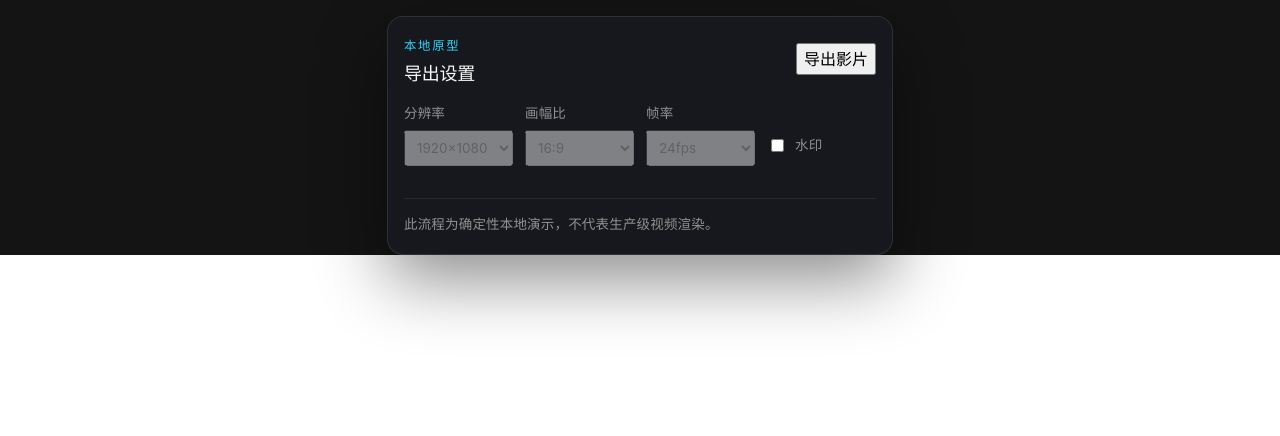
Scenario: export panel › routes the default export through the registered mock provider
This screenshot has width=1280, height=436.
Click the button "导出影片": [836, 59] box [796, 43, 876, 75]
Wait 1800 ms
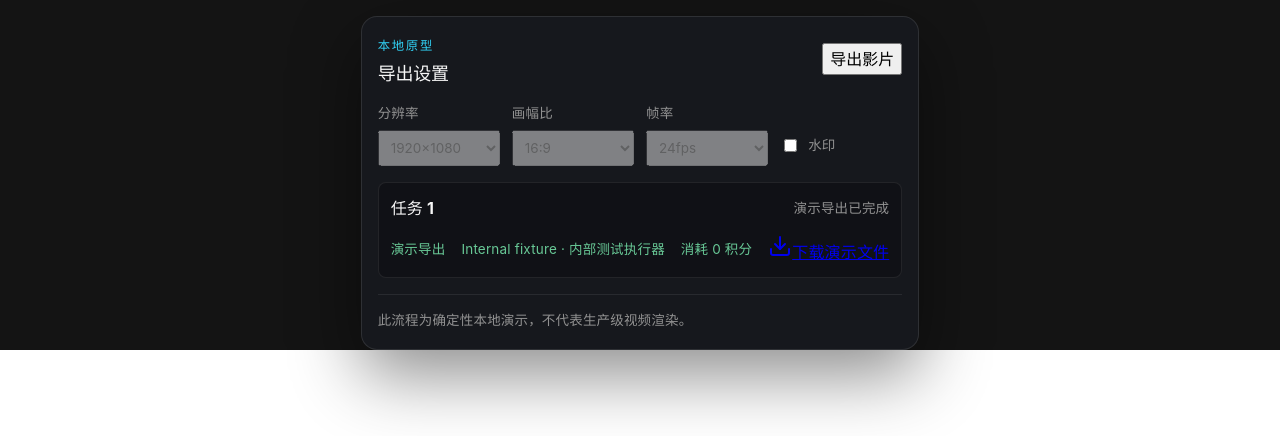
Expected: the list item with aria-label "导出任务 1" shows "Internal fixture · 内部测试执行器", [378, 182, 902, 278]
Expected: the list item with aria-label "导出任务 1" shows "消耗 0 积分", [378, 182, 902, 278]
